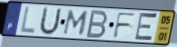B: (85, 9, 110, 40)
E: (133, 11, 159, 44)
F: (112, 11, 138, 39)
L: (18, 5, 37, 36)
M: (61, 9, 91, 37)
U: (37, 6, 63, 37)
